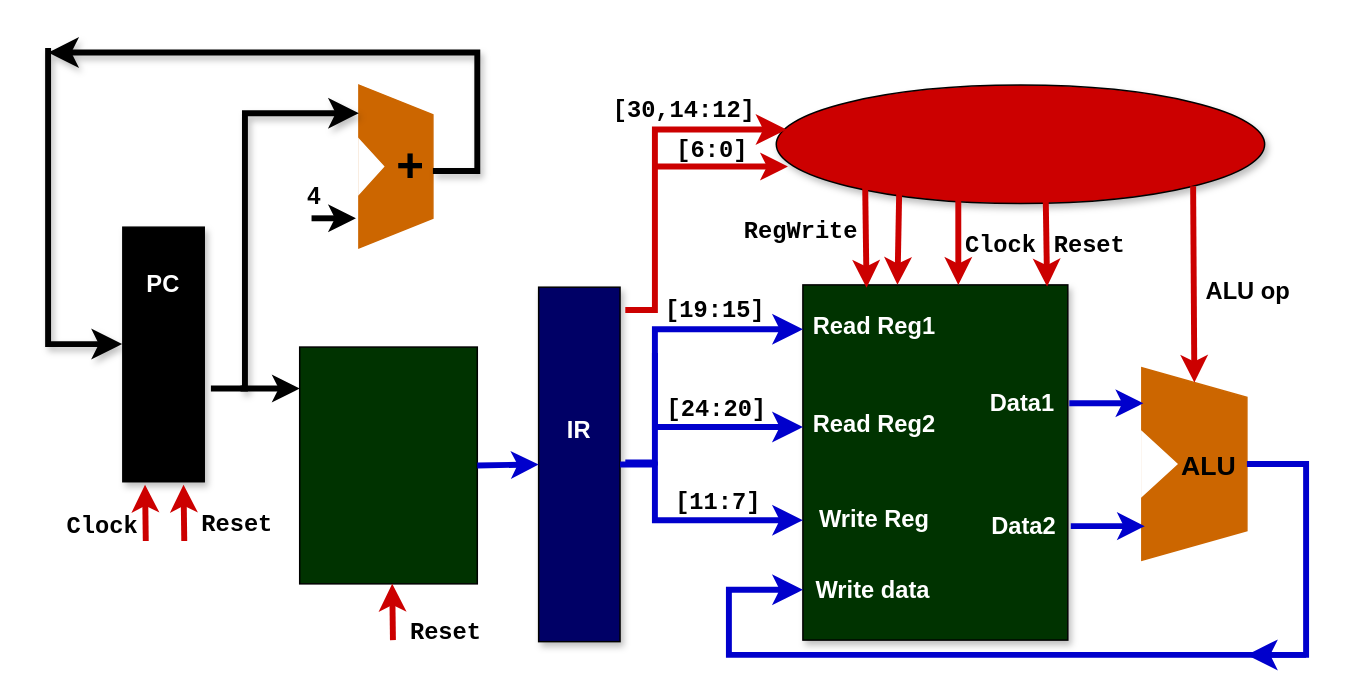
Image size: 1348x697. Some labels were removed from this diagram. Each missing label, with the centre of its shape:
"Control" belongs at [1021,146].
"Instruction Memory" belongs at [387,465].
